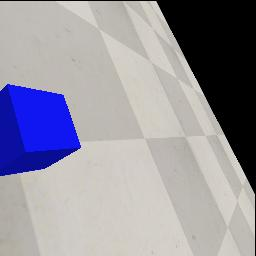box: (0, 83, 82, 176)
